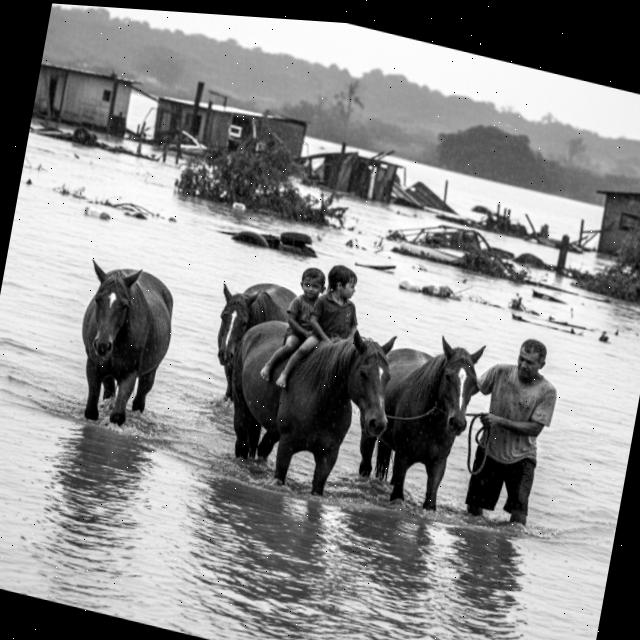civilian: (449, 314, 582, 549), (271, 246, 371, 407), (256, 247, 342, 400)
horse: (210, 292, 406, 518), (349, 311, 490, 528), (54, 246, 196, 451), (196, 260, 304, 431)
